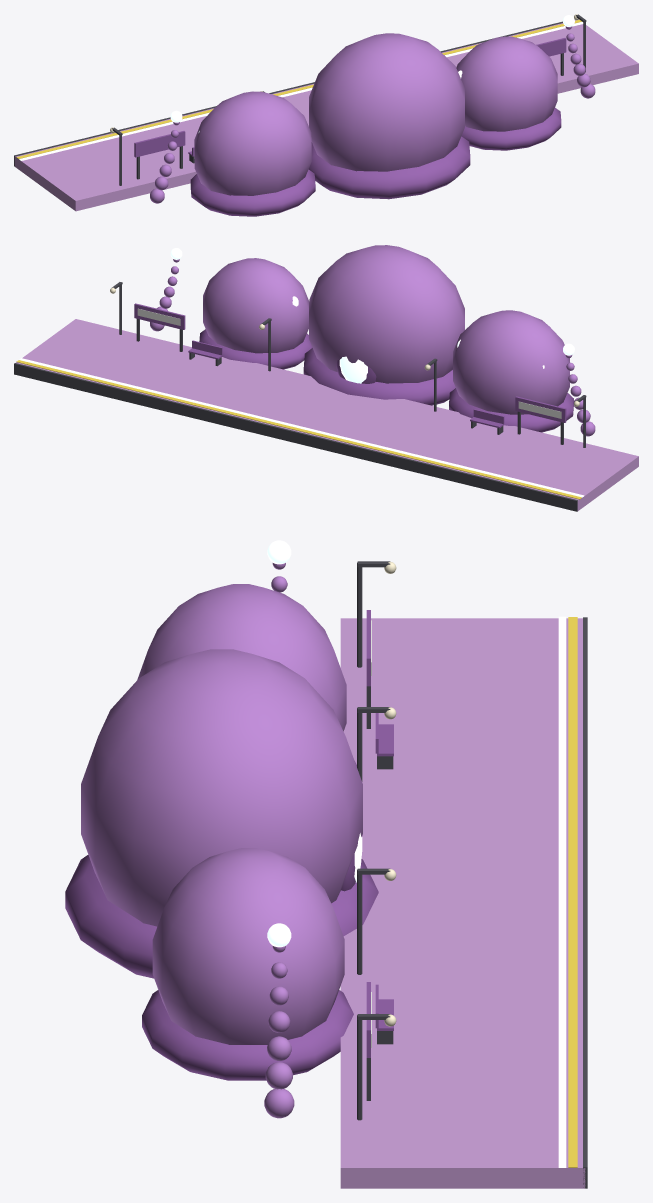
The model's file is Station_alien.fbx.
3 renders of one model, top to bottom at view 1: azimuth 30°, elevation 25°; view 2: azimuth 150°, elevation 25°; view 3: azimuth 270°, elevation 25°, orthographic. The views are drawn at different scales.
Visible parts, largest first — view 1: Station_alien; view 2: Station_alien; view 3: Station_alien.
Part boxes in pixels (<box>): Station_alien: <box>14,14,638,216</box>; Station_alien: <box>14,245,638,511</box>; Station_alien: <box>65,540,587,1188</box>.
Size of the model in its own units: 34 by 8.36 by 13.65.
